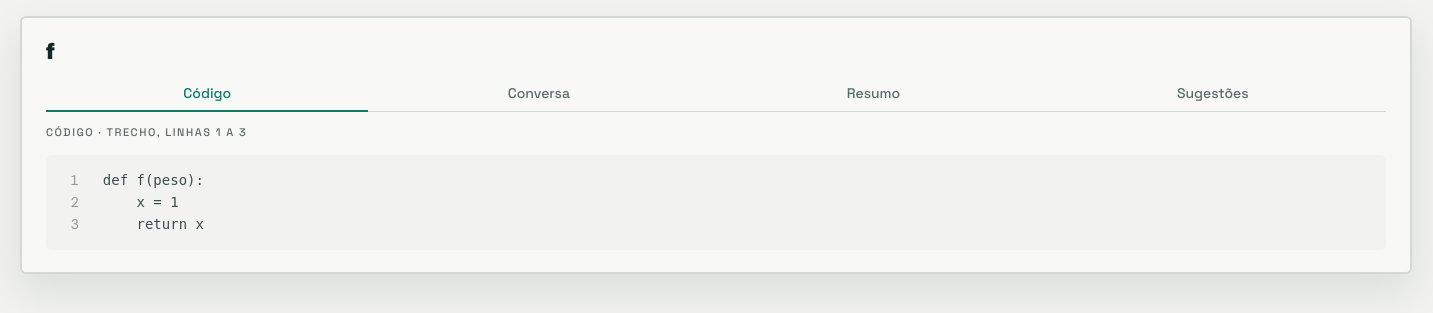
it: DetailPanel, the suggestions kept from the chat › removes a generated suggestion: the server remembers it, and the card and the badge lose it
Click the tab "Sugestões".
click(1213, 94)  # box [1040,76,1386,112]
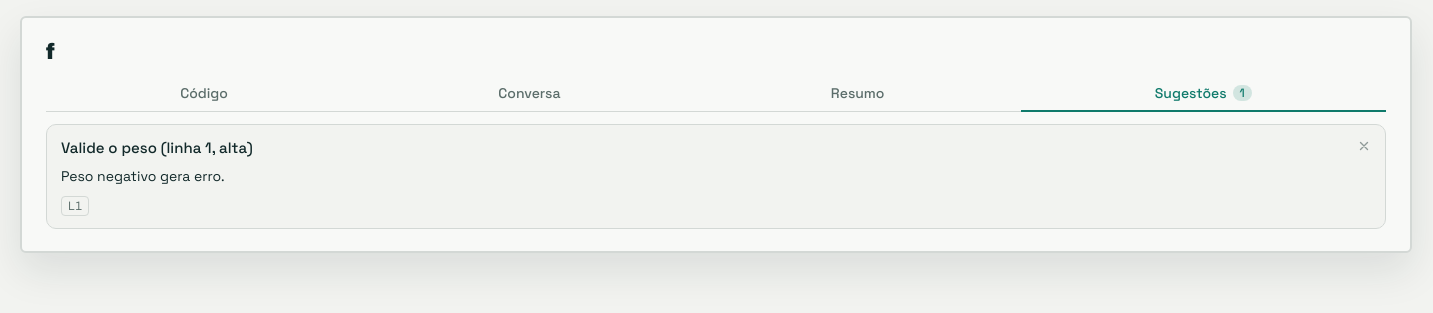
Expected: the button "Valide o peso (linha 1, alta)" is shown, [61,137,281,158]
Click the button named "Remover sugestão".
click(1364, 146)  # box [1351,133,1377,159]
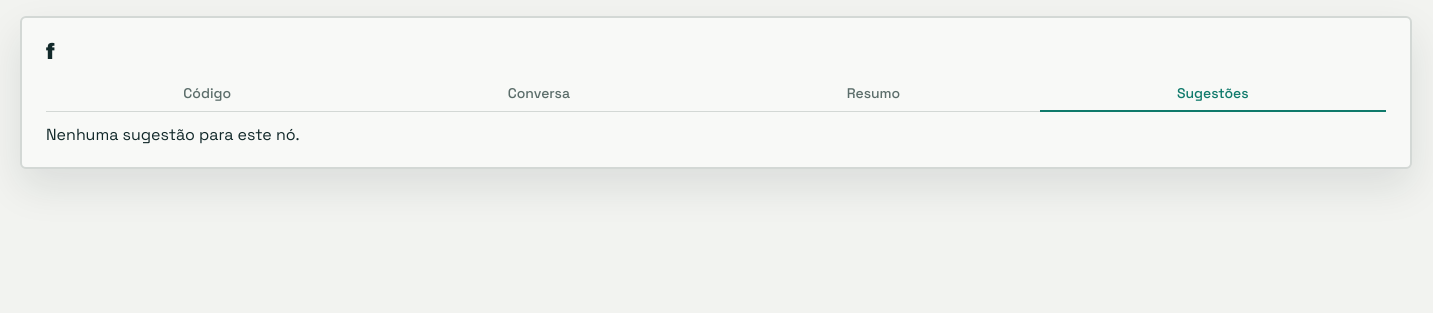
Expected: the button "Valide o peso (linha 1, alta)" is gone
